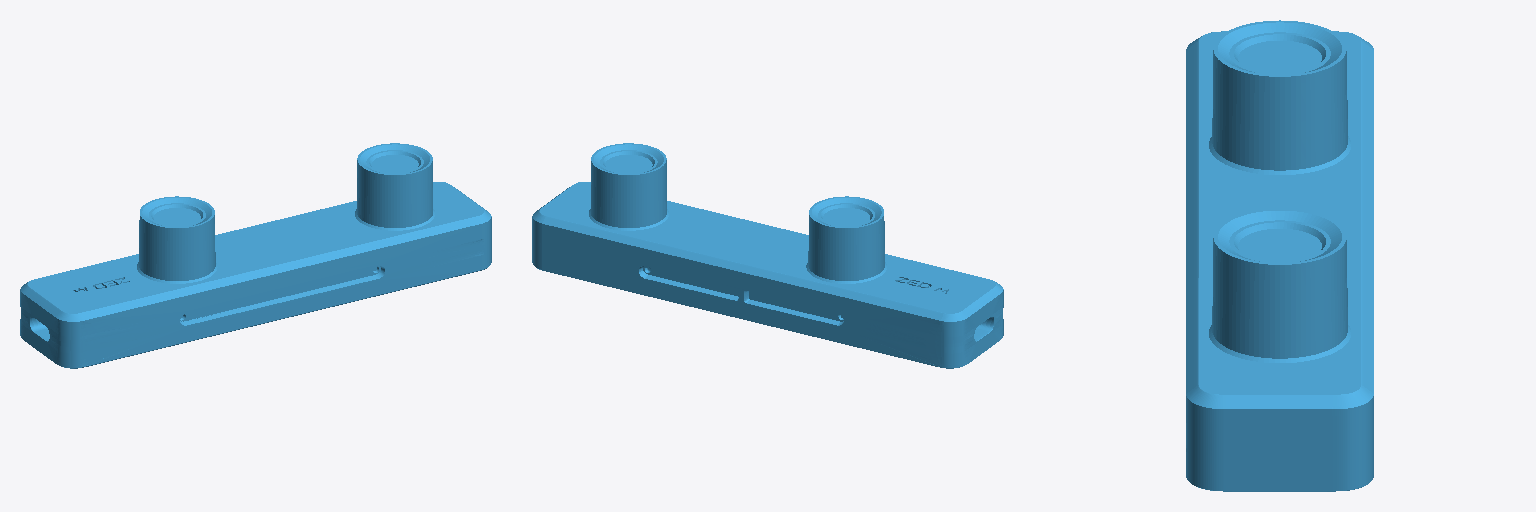
robot.urdf — zedm:
<?xml version="1.0" ?>
<robot name="zedm">
    <link name="base_link"/>

    <!-- https://www.mouser.com/datasheet/2/1520/StereoLabs_ZED_Mini_Datasheet-3401337.pdf?srsltid=AfmBOop4Xt36e9qMPxkPcNSquZzLLlWT5dv8G9ZEhnW5PDZb6sWDMfhr -->

    <link name="zed_link">
        <visual>
            <origin xyz="0 0 0" rpy="0 0 0"/>
            <geometry>
                <mesh filename="zedm.obj" scale="0.1 0.1 0.1"/>
            </geometry>
        </visual>
        <collision>
            <origin xyz="0.023 0 -0.018" rpy="0 0 0"/>
            <geometry>
                <box size="0.13 0.027 0.033"/>
            </geometry>
        </collision>
        <inertial>
            <mass value="0.060"/>
        </inertial>
    </link>

    <joint name="base_link_2_zed_link" type="fixed">
        <parent link="base_link"/>
        <child link="zed_link"/>
        <origin xyz="0 0 0.00" rpy="0 0 0"/> <!-- camera is modelled with Z+ forward, origin is in left eye (egocentric) -->
    </joint>

    <!--    Virtual frames -->
    <link name="right_eye"/> <!-- virtual frame for the right eye -->
    <joint name="pose_of_right_eye_in_left_eye" type="fixed">
        <parent link="zed_link"/>
        <child link="right_eye"/>
        <origin xyz="0.063 0 0" rpy="0 0 0"/>
    </joint>
</robot>

--- Render facts (derived) ---
The picture shows the robot from 3 angles, left to right: view 1: azimuth 30°, elevation 25°; view 2: azimuth 150°, elevation 25°; view 3: azimuth 270°, elevation 25°; orthographic projection.
Robot: zedm — 3 links, 2 joints (2 fixed); root link base_link; default pose: all joints at 0.
Links seen in each view (by area): view 1: zed_link; view 2: zed_link; view 3: zed_link.
Link boxes in pixels (<box>): zed_link: <box>20,143,491,368</box>; zed_link: <box>532,143,1003,368</box>; zed_link: <box>1186,20,1373,491</box>.
Bounding box of the posed robot: 0.1252 × 0.0266 × 0.0295 m (x, y, z).
Meshes: 1 distinct files referenced, 1 mesh visuals loaded (1 OBJ).
